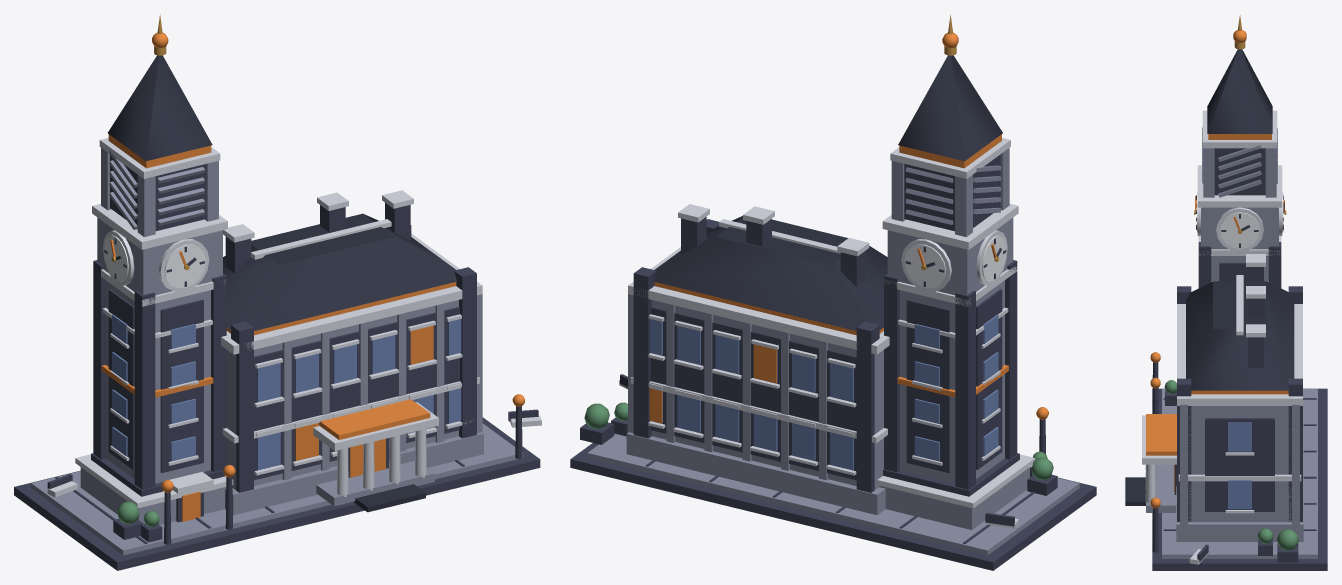
Rendered from clockTower.glb.
The picture shows the model from 3 angles, left to right: view 1: azimuth 30°, elevation 25°; view 2: azimuth 150°, elevation 25°; view 3: azimuth 270°, elevation 25°; orthographic projection. The views are drawn at different scales.
Visible parts, largest first — view 1: groundPad, padTop, plinthCap, stairs, window, doorway, clockDialFace; view 2: groundPad, padTop, stairs, plinthCap, window, doorway, clockDialFace, shrub; view 3: padTop, groundPad, stairs, plinthCap, doorway, window, clockDialFace, shrub.
Part boxes in pixels (x1,y1,x2,y2): groundPad: (14, 155, 540, 570); padTop: (31, 148, 523, 555); plinthCap: (47, 138, 541, 508); stairs: (108, 55, 456, 512); window: (112, 314, 461, 470); doorway: (101, 32, 524, 521); clockDialFace: (104, 235, 205, 288); groundPad: (570, 154, 1096, 570); padTop: (587, 148, 1079, 555); stairs: (653, 55, 1002, 330); plinthCap: (619, 138, 1035, 528); window: (649, 314, 998, 470); doorway: (649, 32, 1048, 423); clockDialFace: (904, 235, 1006, 288); shrub: (584, 402, 1053, 480); padTop: (1146, 127, 1317, 558); groundPad: (1152, 148, 1327, 570); stairs: (1125, 49, 1294, 505); plinthCap: (1142, 110, 1302, 564); doorway: (1146, 30, 1288, 508); window: (1228, 422, 1251, 509); clockDialFace: (1197, 192, 1283, 248); shrub: (1164, 380, 1298, 550).
Bounding box in the file's own units: 27.65 × 29.15 × 12.7.
